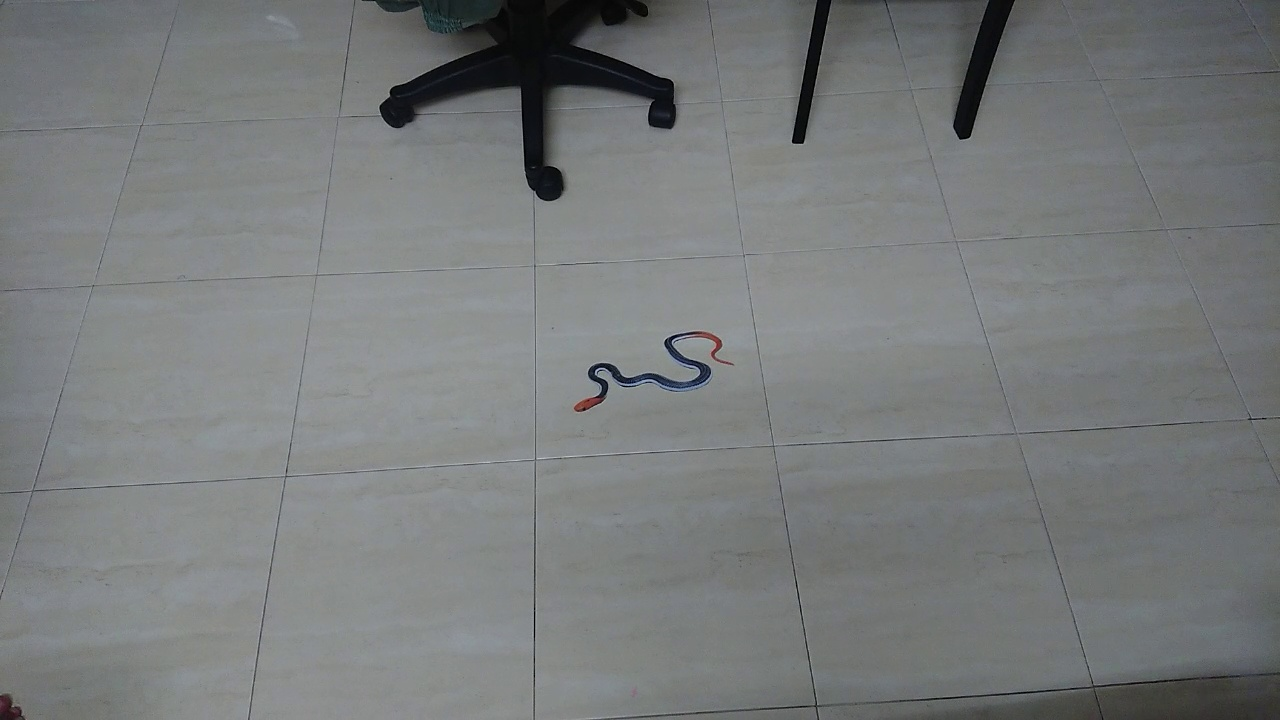snake: (550, 315, 751, 420)
